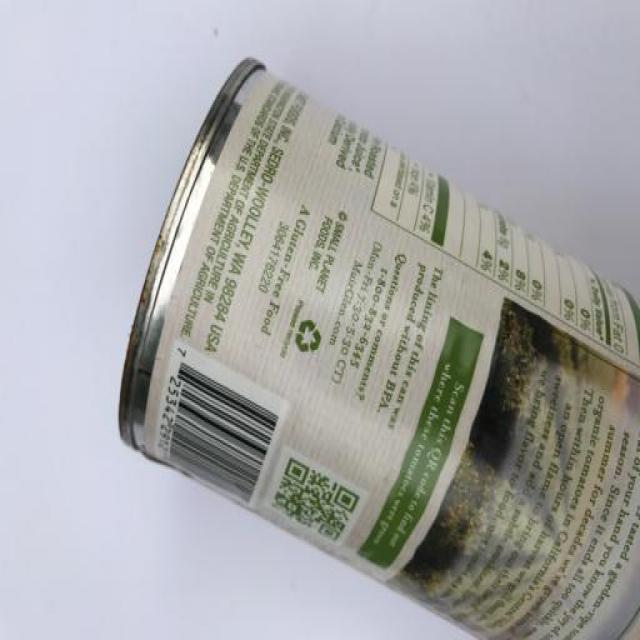metel: (113, 46, 640, 640)
